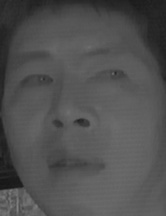eye: (90, 63, 131, 90), (18, 69, 55, 96)
mouth: (42, 143, 111, 187)
